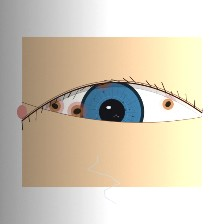foreign_body_visible: (38, 92, 72, 120)
